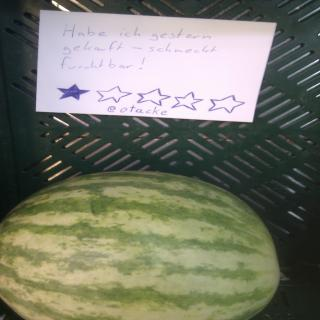Watermelon: (0, 169, 281, 319)
